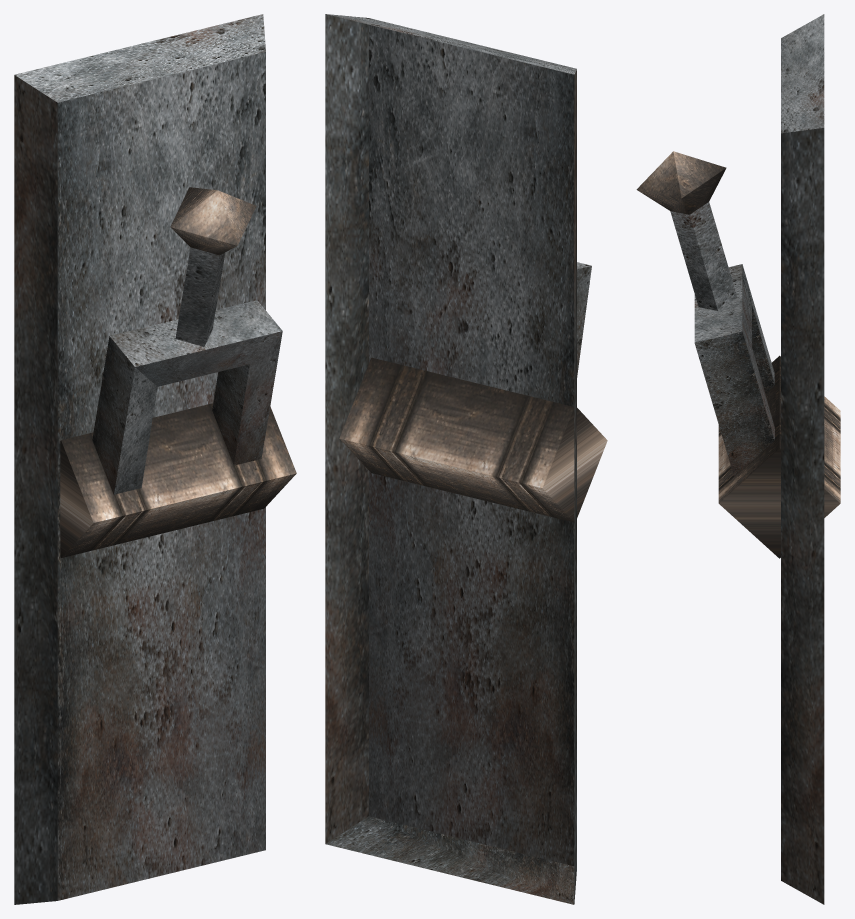
Rendered from mm9_deco_switch02.glb.
3 views of the same model, side by side, from view 1: azimuth 30°, elevation 25°; view 2: azimuth 150°, elevation 25°; view 3: azimuth 270°, elevation 25° (orthographic). The views are drawn at different scales.
Parts seen in each view (by area): view 1: Switch02; view 2: Switch02; view 3: Switch02.
Boxes of the visible parts, left/top/right/bottom form: Switch02: left=14, top=14, right=296, bottom=904; Switch02: left=325, top=14, right=607, bottom=904; Switch02: left=636, top=14, right=840, bottom=904.
Size of the model in its own units: 0.2386 by 0.7595 by 0.1809.
2 materials, 2 textured.
